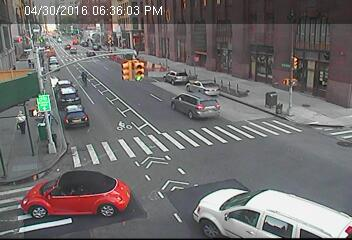neg: (240, 32, 257, 55), (302, 58, 318, 80), (75, 69, 88, 86), (229, 78, 241, 95), (161, 93, 173, 109), (139, 90, 151, 105), (214, 34, 225, 49), (167, 24, 177, 38), (35, 7, 45, 21), (192, 95, 202, 108), (265, 82, 275, 95), (134, 7, 144, 20), (84, 10, 92, 20)
pos: (12, 107, 31, 132), (24, 56, 33, 68)
